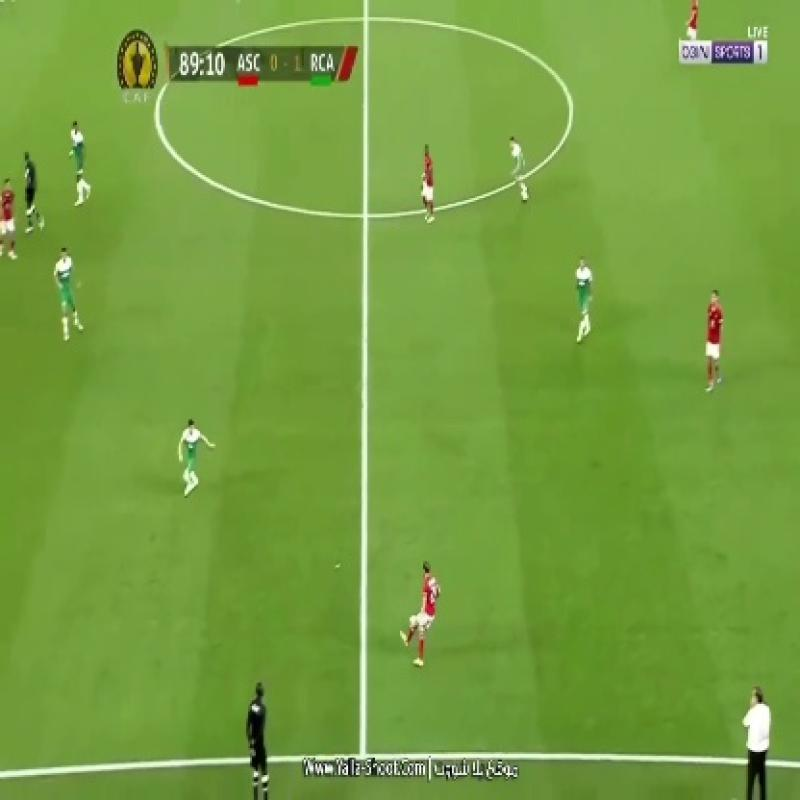14: (350, 0, 381, 35)
15: (350, 192, 381, 237)
16: (345, 731, 382, 766)
c: (133, 94, 179, 140), (550, 86, 592, 134)
